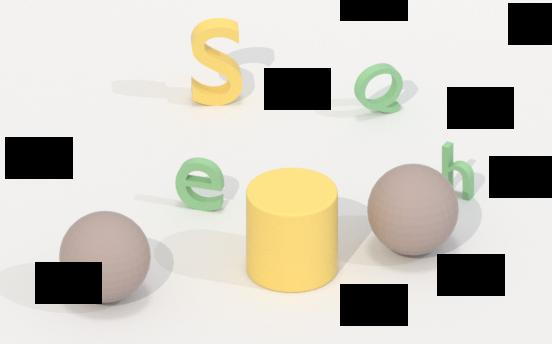cau: (366, 155, 460, 259), (59, 208, 153, 308)
e: (174, 152, 228, 215)
h: (440, 137, 481, 203)
q: (352, 57, 408, 118)
s: (186, 14, 247, 110)
tru: (244, 163, 341, 298)
